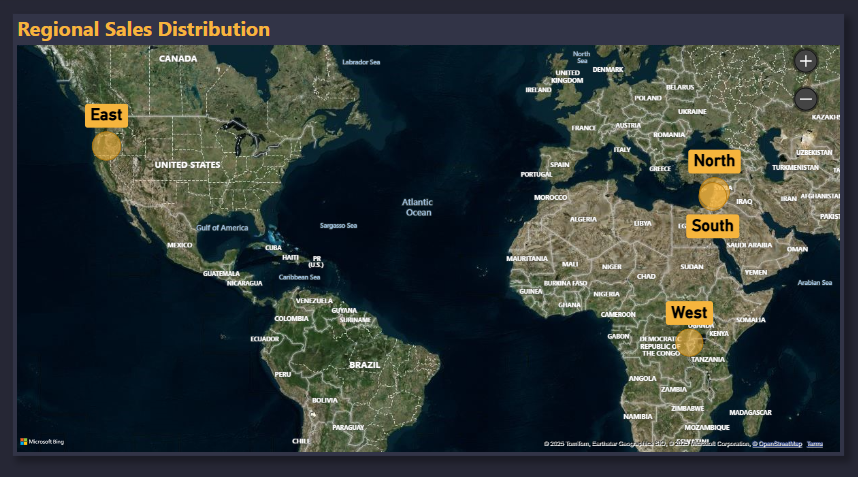

The page's visual inventory and layout, read from the dashboard file:
{"tool":"powerbi","page":{"name":"Regional Sales Distribution","canvas":[1280,720],"ordinal":2},"visuals":[{"type":"map","title":"Regional Sales Distribution","fields":{"Category":["Sheet1.Region"],"Size":["Sum(Sheet1.Sales_Amount)"]},"box":[29.4,26.4,1221.1,649.5],"z":0}]}

Visuals, with their boxes in screenshot pixels (x1, y1, x2, y2), scaled from the page's 1280x720 canvas onto the 858x477 screenshot:
"Regional Sales Distribution" map: {"x1": 20, "y1": 17, "x2": 838, "y2": 448}
